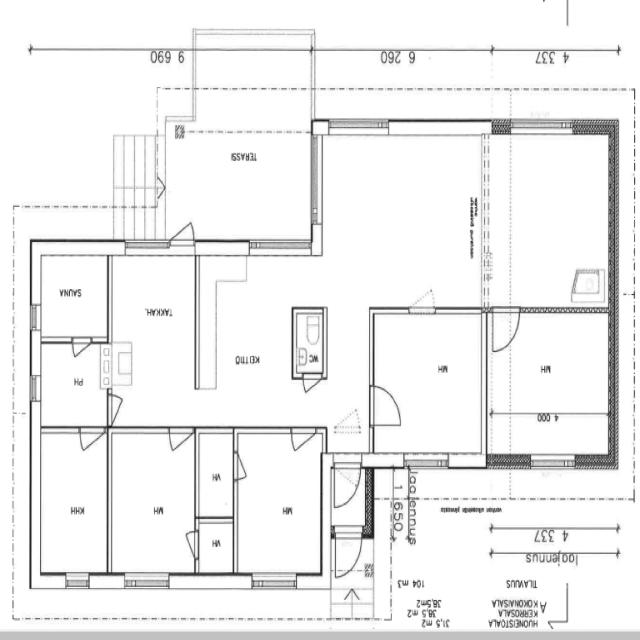door: (367, 380, 406, 433), (330, 452, 362, 511), (331, 525, 365, 580), (489, 300, 522, 355), (184, 523, 217, 565), (166, 216, 200, 256), (408, 283, 438, 319), (166, 423, 197, 454), (77, 420, 106, 452), (230, 451, 250, 483), (182, 525, 201, 558), (107, 390, 124, 426), (70, 332, 92, 359)
window: (244, 231, 312, 263), (507, 114, 579, 144), (324, 111, 395, 140), (526, 449, 582, 476), (118, 235, 180, 259), (247, 568, 302, 591), (404, 450, 452, 476), (120, 568, 175, 590), (432, 300, 487, 320), (25, 297, 44, 334), (26, 367, 43, 408), (62, 568, 91, 590)
zone: (311, 120, 482, 311), (478, 128, 614, 310), (485, 308, 613, 464), (371, 308, 488, 467), (194, 250, 299, 424), (106, 248, 199, 429), (236, 426, 324, 580), (107, 425, 196, 575), (35, 424, 108, 576), (33, 245, 110, 342), (38, 340, 109, 429), (195, 425, 234, 518), (294, 308, 327, 378), (196, 516, 235, 574)
